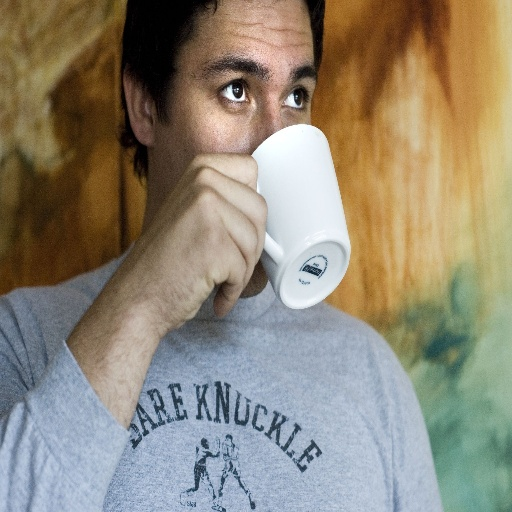hand: (76, 170, 281, 428), (222, 454, 229, 463), (214, 435, 220, 445)
